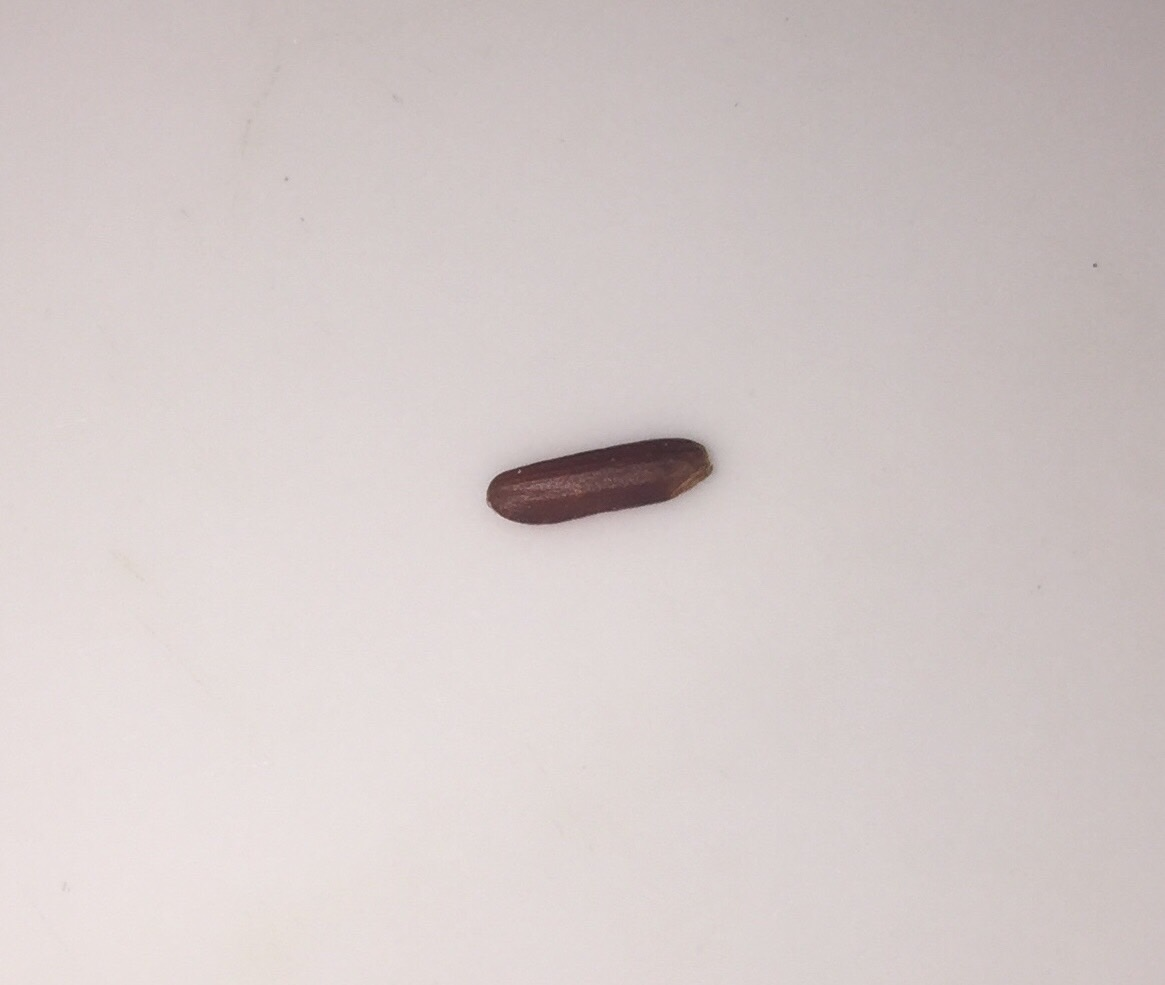Gao Huyet Rong: (486, 430, 718, 542)
